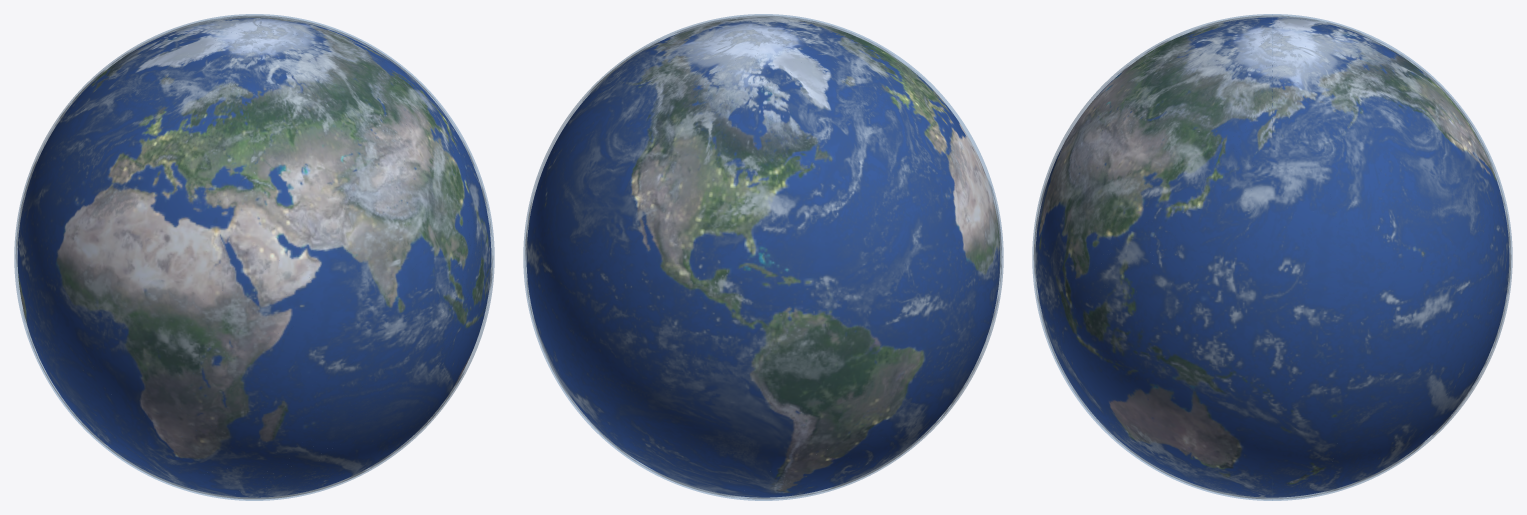
Rendered from earth_compressed(1).glb.
3 views of the same model, side by side, from view 1: azimuth 30°, elevation 25°; view 2: azimuth 150°, elevation 25°; view 3: azimuth 270°, elevation 25° (orthographic).
Visible parts, largest first — view 1: pSphere5, pSphere1, pSphere4; view 2: pSphere5, pSphere1, pSphere4; view 3: pSphere5, pSphere1, pSphere4.
Boxes of the visible parts, <box> form: pSphere5: <box>14,14,494,500</box>; pSphere1: <box>17,17,491,497</box>; pSphere4: <box>16,15,492,499</box>; pSphere5: <box>523,14,1003,500</box>; pSphere1: <box>526,17,1000,497</box>; pSphere4: <box>525,15,1001,499</box>; pSphere5: <box>1032,14,1512,500</box>; pSphere1: <box>1035,17,1509,497</box>; pSphere4: <box>1034,15,1510,499</box>.
Size of the model in its own units: 192 by 196 by 192.
Materials: 3 (2 with a texture image).
